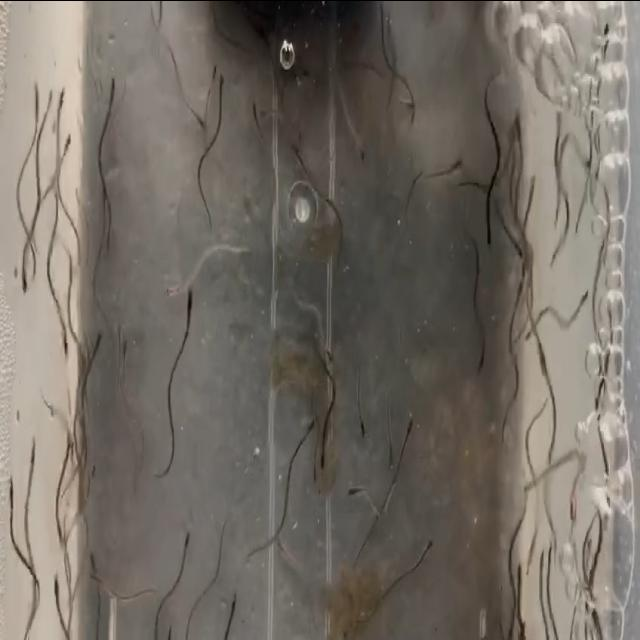active_glass_eel: (596, 23, 616, 67), (546, 236, 568, 270), (18, 246, 31, 299), (474, 335, 492, 373), (181, 276, 197, 316), (114, 334, 130, 372), (310, 463, 326, 499), (225, 590, 241, 626), (49, 570, 62, 614), (446, 153, 466, 181), (522, 542, 534, 588), (59, 318, 71, 362), (574, 282, 590, 314), (564, 486, 578, 522), (402, 404, 415, 442), (27, 434, 41, 469), (161, 278, 183, 300), (86, 324, 102, 354), (192, 104, 208, 134), (540, 538, 556, 568), (83, 462, 97, 496), (482, 218, 496, 252), (404, 96, 419, 126), (61, 124, 75, 156), (84, 546, 98, 578), (512, 232, 526, 264), (54, 78, 66, 115), (56, 479, 70, 509), (214, 72, 228, 102), (422, 532, 436, 562), (524, 174, 538, 204), (581, 532, 592, 570), (301, 412, 317, 438), (355, 136, 368, 168), (5, 474, 17, 508), (298, 58, 314, 83), (86, 568, 104, 590), (289, 140, 303, 168), (344, 478, 361, 501), (324, 338, 336, 369), (208, 52, 220, 82), (514, 556, 526, 586), (112, 322, 124, 351), (250, 96, 260, 130), (318, 444, 331, 469), (182, 526, 192, 558), (386, 444, 396, 476), (98, 178, 110, 202), (512, 110, 524, 134), (536, 548, 548, 572), (550, 207, 562, 230), (356, 411, 366, 438), (106, 71, 118, 93), (262, 101, 272, 123)
